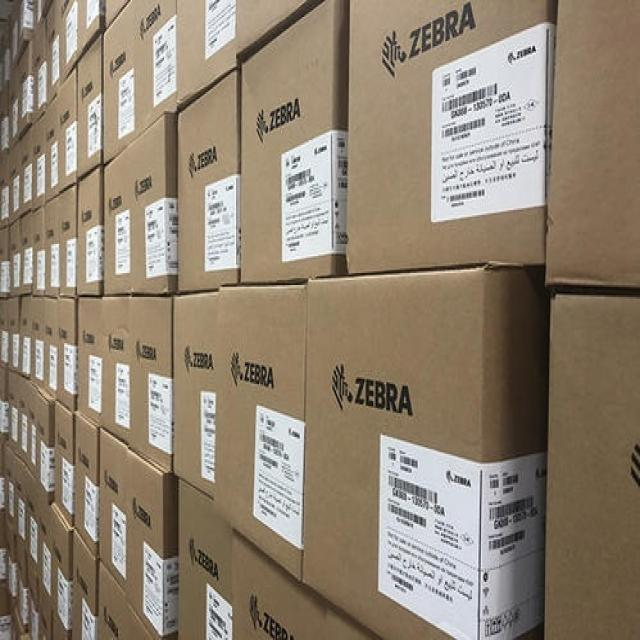box: (301, 266, 545, 640), (348, 0, 555, 275), (543, 290, 639, 640), (239, 0, 348, 285), (213, 285, 307, 582), (544, 2, 639, 292), (233, 536, 382, 640), (177, 67, 240, 294), (177, 474, 237, 640), (126, 449, 178, 640), (173, 292, 218, 502), (132, 113, 177, 294), (131, 297, 173, 473), (176, 0, 237, 111), (97, 428, 131, 596), (103, 0, 136, 166), (236, 0, 319, 63), (103, 140, 135, 295), (97, 558, 153, 640), (101, 299, 131, 449), (77, 31, 104, 181), (74, 415, 100, 560), (77, 167, 103, 297), (51, 399, 76, 529), (76, 300, 101, 427), (55, 297, 78, 413), (58, 65, 77, 191), (41, 505, 73, 579), (14, 457, 37, 550), (24, 481, 47, 573), (37, 386, 55, 503), (72, 531, 96, 618), (45, 2, 64, 106), (60, 186, 77, 300), (44, 198, 62, 295), (31, 19, 47, 123), (45, 94, 60, 203), (78, 0, 104, 60), (53, 553, 72, 633), (17, 44, 33, 138), (59, 0, 78, 79), (71, 582, 96, 640), (44, 297, 58, 399), (26, 382, 40, 480), (17, 372, 31, 464), (8, 140, 23, 225), (15, 534, 28, 631), (21, 123, 35, 213), (31, 297, 45, 387), (38, 526, 54, 604), (33, 113, 46, 208), (21, 210, 35, 297), (8, 218, 23, 299), (18, 295, 32, 381), (6, 295, 22, 370), (4, 444, 18, 527), (32, 208, 45, 297), (8, 589, 29, 640), (38, 573, 53, 640), (8, 65, 19, 150), (27, 555, 38, 640), (6, 517, 17, 601), (18, 0, 33, 58), (8, 370, 18, 456), (0, 154, 10, 230), (104, 0, 128, 31), (0, 584, 13, 638), (32, 0, 50, 38), (0, 227, 9, 300), (0, 299, 9, 370), (0, 435, 8, 514), (9, 0, 18, 70), (53, 606, 71, 640), (0, 367, 8, 440), (0, 515, 6, 587)
